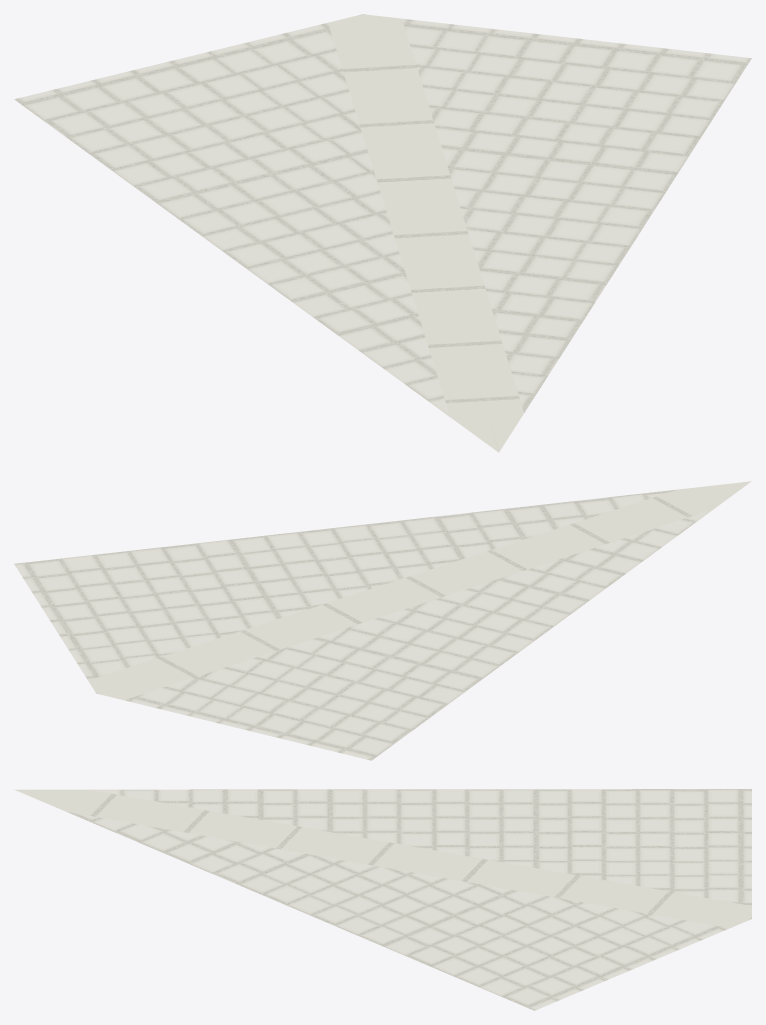
Rendered from en_divCrn_01.fbx.
3 views of the same model, one above another, from view 1: azimuth 30°, elevation 25°; view 2: azimuth 150°, elevation 25°; view 3: azimuth 270°, elevation 25° (orthographic). The views are drawn at different scales.
Parts seen in each view (by area): view 1: divCrn_obj10; view 2: divCrn_obj10; view 3: divCrn_obj10.
Boxes of the visible parts, bbox=[...] form: divCrn_obj10: bbox=[14, 14, 751, 452]; divCrn_obj10: bbox=[14, 481, 751, 760]; divCrn_obj10: bbox=[14, 789, 751, 1010].
Size of the model in its own units: 171 by 0 by 240.
Materials: 1 (1 with a texture image).
